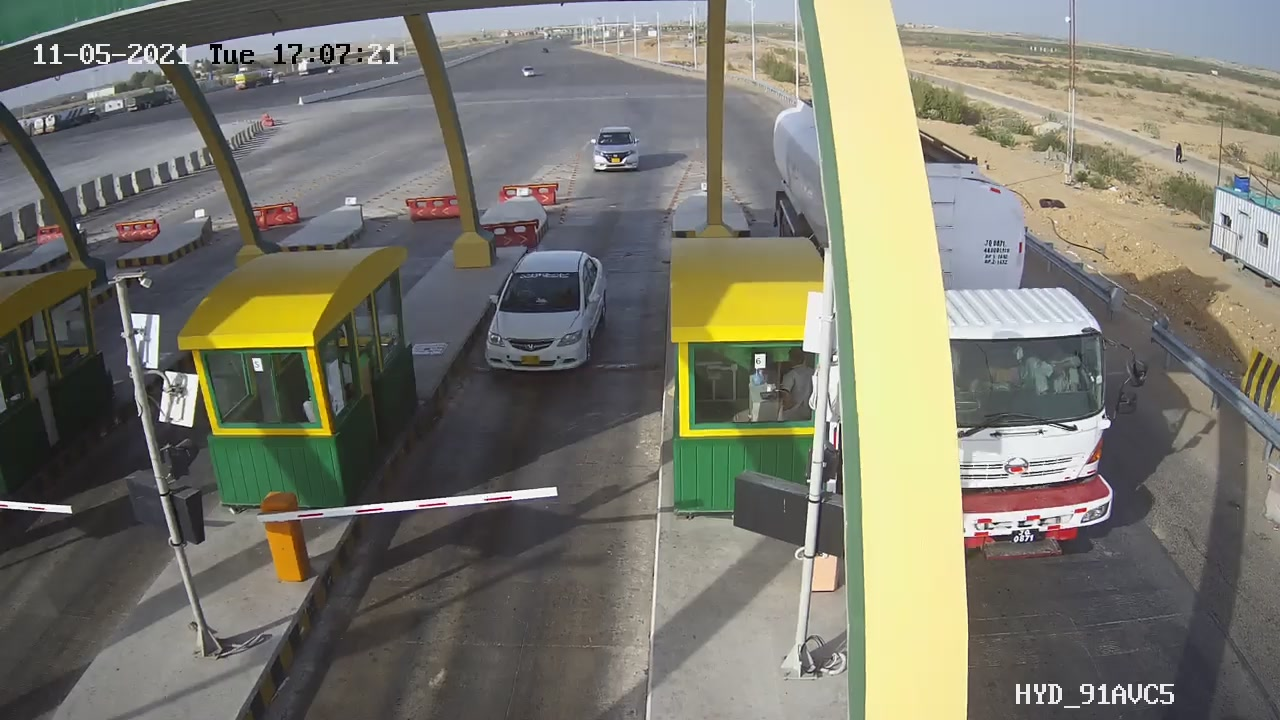F1: (460, 238, 637, 394)
